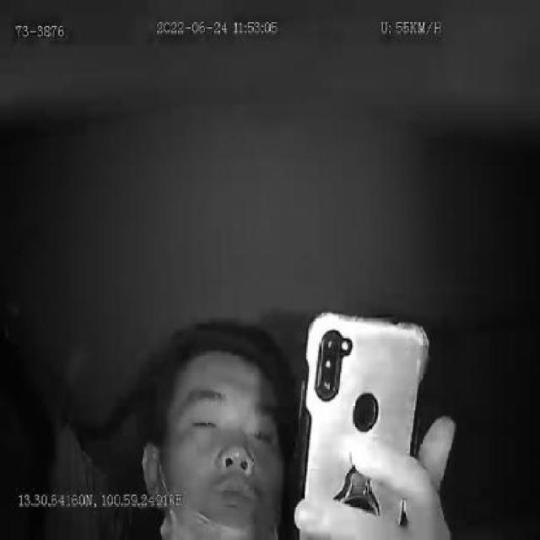phone: (296, 304, 435, 540)
